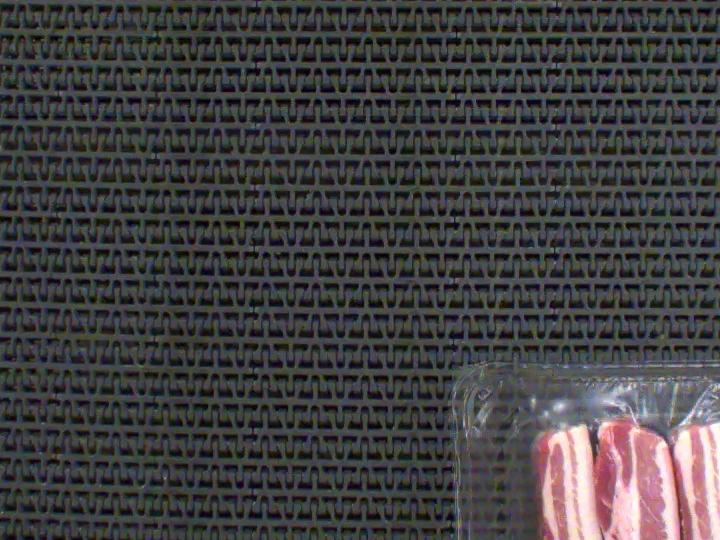unsealed: (493, 375, 720, 514)
